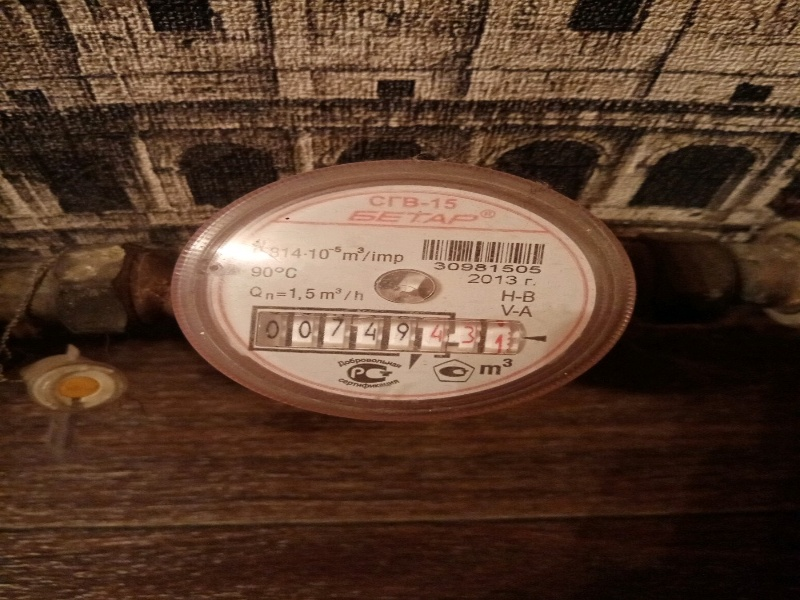dial: (249, 309, 512, 356)
